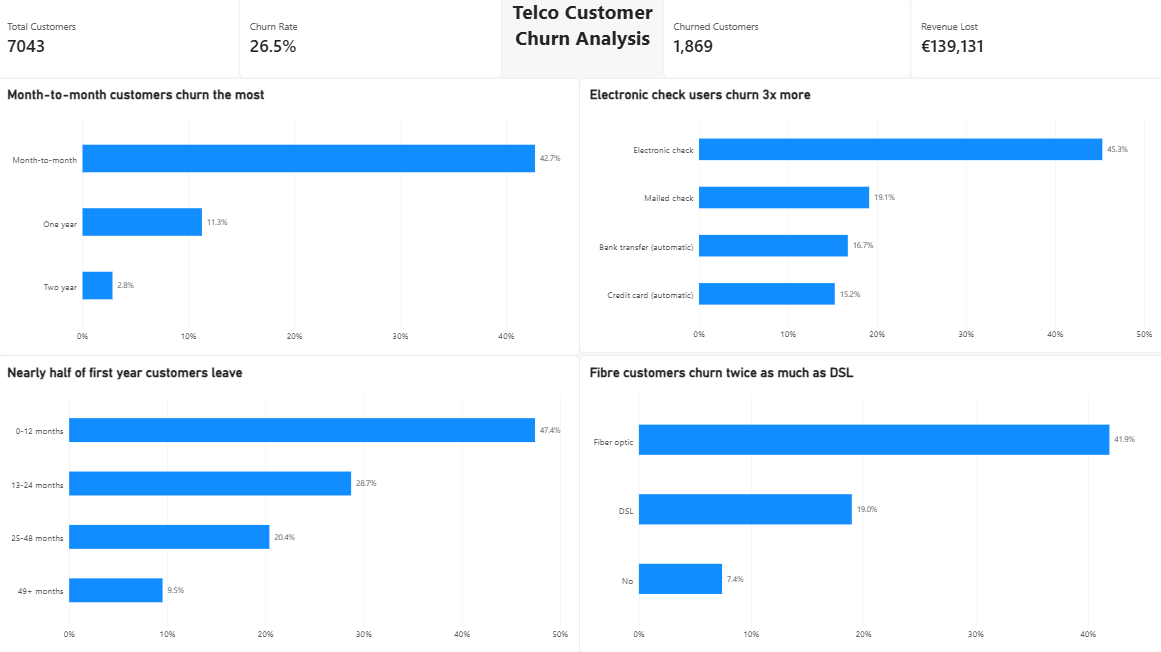

This screenshot's page, from the dashboard's own definition file:
{"tool":"powerbi","page":{"name":"Page 1","canvas":[1920,1080],"ordinal":0},"visuals":[{"type":"cardVisual","fields":{"Data":["churn_clean.Total Customers"]},"box":[0,0,399.3,131.7],"z":0},{"type":"cardVisual","fields":{"Data":["churn_clean.Churn Rate"]},"box":[399.3,0,432.2,131.7],"z":1000},{"type":"cardVisual","fields":{"Data":["churn_clean.Churned Customers Card"]},"box":[1097.1,0,407.5,131.7],"z":2000},{"type":"cardVisual","fields":{"Data":["churn_clean.Revenue Lost Card"]},"box":[1504.6,0,415.8,131.7],"z":3000},{"type":"clusteredBarChart","title":"Month-to-month customers churn the most","fields":{"Category":["churn_clean.Contract"],"Y":["churn_clean.Churn Rate"]},"box":[0,131.7,959.2,456.9],"z":4000},{"type":"barChart","title":"Nearly half of first year customers leave","fields":{"Category":["churn_clean.Tenure Band"],"Y":["churn_clean.Churn Rate"]},"box":[0,588.7,959.2,489.9],"z":5000},{"type":"barChart","title":"Electronic check users churn 3x more","fields":{"Category":["churn_clean.PaymentMethod"],"Y":["churn_clean.Churn Rate"]},"box":[959.2,131.7,961.2,452.8],"z":6000},{"type":"barChart","title":"Fibre customers churn twice as much as DSL","fields":{"Category":["churn_clean.InternetService"],"Y":["churn_clean.Churn Rate"]},"box":[959.2,588.7,961.2,489.9],"z":7000},{"type":"textbox","box":[831.6,0,265.5,131.7],"z":8000}]}

Visuals, with their boxes in screenshot pixels (x1, y1, x2, y2), scaled from the page's 1920x1080 canvas onto the 1161x652 screenshot:
cardVisual - churn_clean.Total Customers: bbox(0, 0, 241, 80)
cardVisual - churn_clean.Churn Rate: bbox(241, 0, 503, 80)
cardVisual - churn_clean.Churned Customers Card: bbox(663, 0, 910, 80)
cardVisual - churn_clean.Revenue Lost Card: bbox(910, 0, 1160, 80)
"Month-to-month customers churn the most" clusteredBarChart: bbox(0, 80, 580, 355)
"Nearly half of first year customers leave" barChart: bbox(0, 355, 580, 651)
"Electronic check users churn 3x more" barChart: bbox(580, 80, 1160, 353)
"Fibre customers churn twice as much as DSL" barChart: bbox(580, 355, 1160, 651)
textbox: bbox(503, 0, 663, 80)
